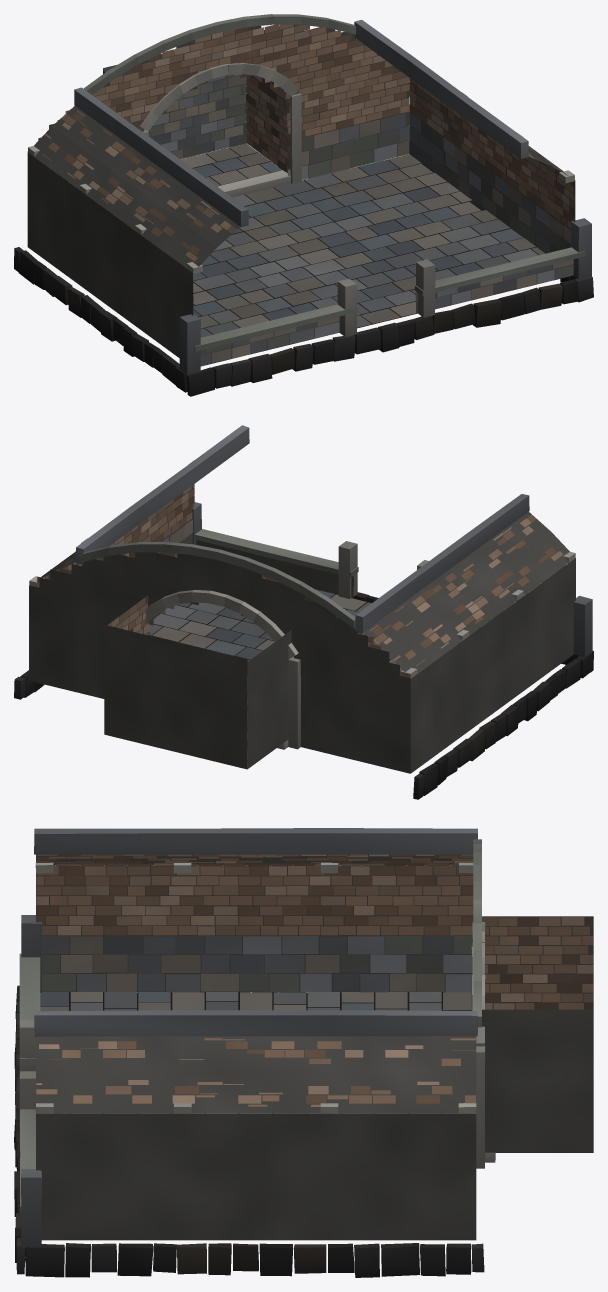
File: ph_int_crypt_room.glb
The picture shows the model from 3 angles, top to bottom: view 1: azimuth 30°, elevation 25°; view 2: azimuth 150°, elevation 25°; view 3: azimuth 270°, elevation 25°; orthographic projection. The views are drawn at different scales.
Visible parts, largest first — view 1: ph_int_crypt_room; view 2: ph_int_crypt_room; view 3: ph_int_crypt_room.
Part boxes in pixels (bbox=[...]): ph_int_crypt_room: bbox=[14, 14, 593, 396]; ph_int_crypt_room: bbox=[14, 425, 593, 799]; ph_int_crypt_room: bbox=[14, 828, 593, 1277].
Size of the model in its own units: 8.54 by 4 by 7.9.
